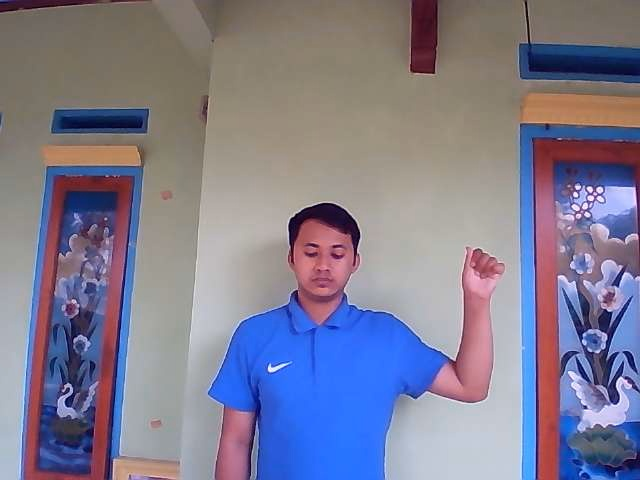A: (461, 245, 506, 294)
